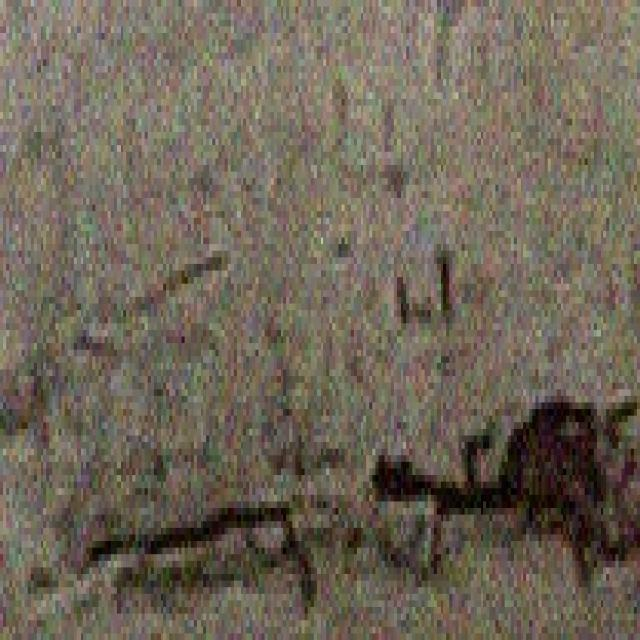crack: (93, 437, 281, 569)
